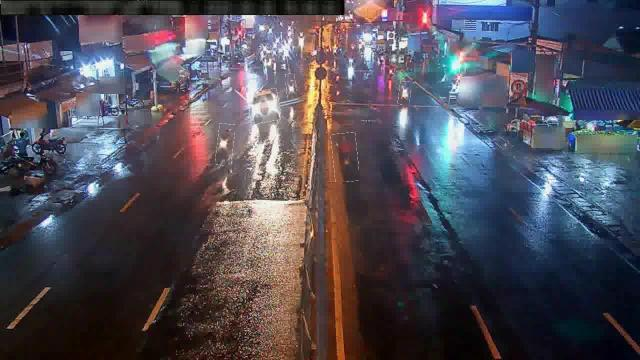Bike: (332, 132, 358, 182), (217, 124, 235, 166), (399, 82, 411, 105), (286, 74, 296, 100)
Car: (248, 90, 280, 122)
